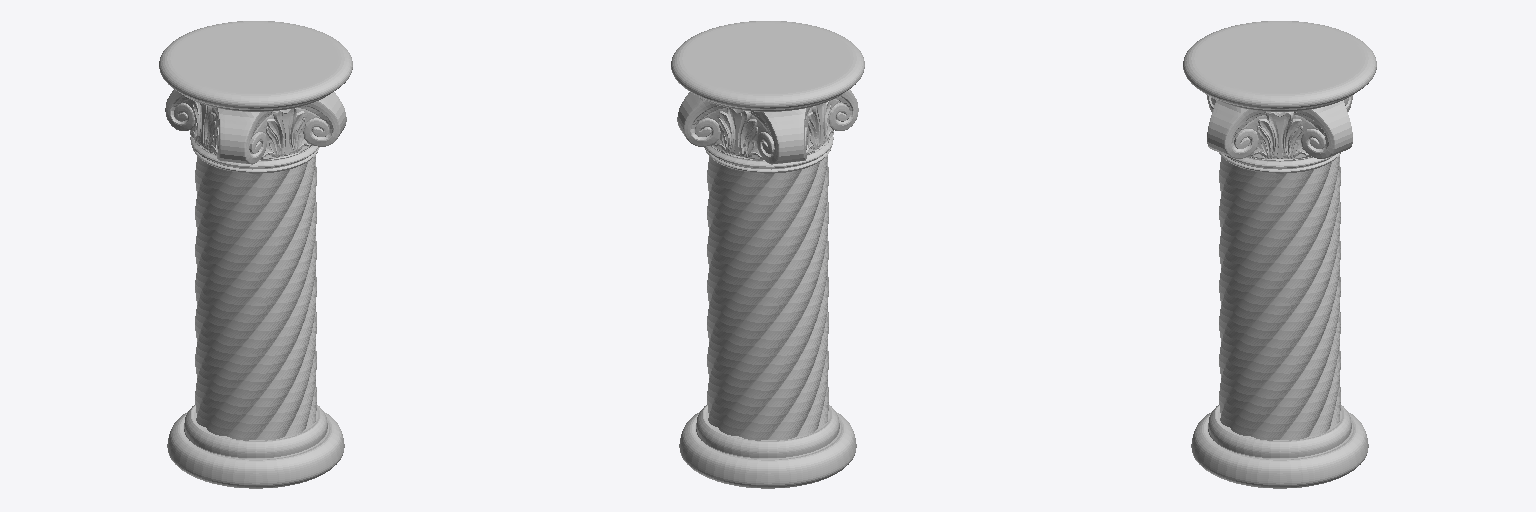
Rendered from Doric Pedestal.obj.
3 views of the same model, side by side, from view 1: azimuth 30°, elevation 25°; view 2: azimuth 150°, elevation 25°; view 3: azimuth 270°, elevation 25° (orthographic).
Visible parts, largest first — view 1: Doric_Pedestal; view 2: Doric_Pedestal; view 3: Doric_Pedestal.
Part boxes in pixels (bbox=[...]): Doric_Pedestal: bbox=[159, 21, 352, 488]; Doric_Pedestal: bbox=[671, 21, 864, 488]; Doric_Pedestal: bbox=[1183, 21, 1376, 488].
Size of the model in its own units: 0.3114 by 0.7003 by 0.3114.